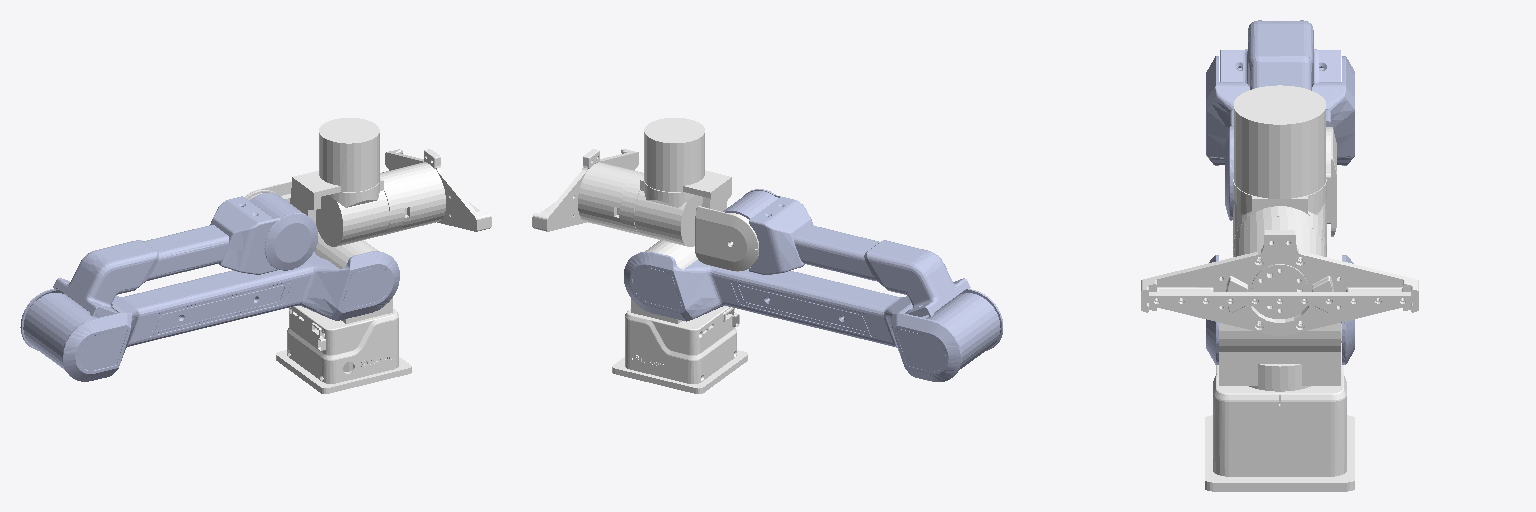
robot.urdf — S1_urdf:
<?xml version="1.0" encoding="utf-8"?>
<!-- This URDF was automatically created by SolidWorks to URDF Exporter! Originally created by Stephen Brawner (brawner@gmail.com) 
     Commit Version: 1.6.0-4-g7f85cfe  Build Version: 1.6.7995.38578
     For more information, please see http://wiki.ros.org/sw_urdf_exporter -->
<robot
  name="S1_urdf">
  <link
    name="base_link">
    <inertial>
      <origin
        xyz="-0.00380858444094159 -2.95623718748507E-06 -0.00812774108594989"
        rpy="0 0 0" />
      <mass
        value="0.20806063959613" />
      <inertia
        ixx="0.000111582714512014"
        ixy="-2.09920975933723E-08"
        ixz="-1.21102241506082E-07"
        iyy="0.000111825104100504"
        iyz="7.58291968234202E-09"
        izz="0.000141736244263584" />
    </inertial>
    <visual>
      <origin
        xyz="0 0 0"
        rpy="0 0 0" />
      <geometry>
        <mesh
          filename="package://S1_urdf/meshes/base_link.STL" />
      </geometry>
      <material
        name="">
        <color
          rgba="1 1 1 1" />
      </material>
    </visual>
    <collision>
      <origin
        xyz="0 0 0"
        rpy="0 0 0" />
      <geometry>
        <mesh
          filename="package://S1_urdf/meshes/base_link.STL" />
      </geometry>
    </collision>
  </link>
  <link
    name="1_Link">
    <inertial>
      <origin
        xyz="-7.80625564189563E-18 -5.00000000002408E-06 0.0590653989286232"
        rpy="0 0 0" />
      <mass
        value="0.240435362198768" />
      <inertia
        ixx="0.00018630832355269"
        ixy="1.64953324173944E-20"
        ixz="-3.36777610311687E-21"
        iyy="0.000128091509815163"
        iyz="1.45060421196015E-21"
        izz="0.000164031471753809" />
    </inertial>
    <visual>
      <origin
        xyz="0 0 0"
        rpy="0 0 0" />
      <geometry>
        <mesh
          filename="package://S1_urdf/meshes/1_Link.STL" />
      </geometry>
      <material
        name="">
        <color
          rgba="1 1 1 1" />
      </material>
    </visual>
    <collision>
      <origin
        xyz="0 0 0"
        rpy="0 0 0" />
      <geometry>
        <mesh
          filename="package://S1_urdf/meshes/1_Link.STL" />
      </geometry>
    </collision>
  </link>
  <joint
    name="1joint"
    type="revolute">
    <origin
      xyz="0 0 0"
      rpy="0 0 0" />
    <parent
      link="base_link" />
    <child
      link="1_Link" />
    <axis
      xyz="0 0 1" />
    <limit
      lower="-2.967"
      upper="2.967"
      effort="9"
      velocity="3" />
  </joint>
  <link
    name="2_Link">
    <inertial>
      <origin
        xyz="-0.251879222304569 0.000517956528807904 -7.29157146039383E-05"
        rpy="0 0 0" />
      <mass
        value="0.278959835711776" />
      <inertia
        ixx="0.000163800465912938"
        ixy="2.62737202022501E-07"
        ixz="1.39606807736436E-05"
        iyy="0.000968577582996889"
        iyz="7.55245046340043E-08"
        izz="0.00100988914340768" />
    </inertial>
    <visual>
      <origin
        xyz="0 0 0"
        rpy="0 0 0" />
      <geometry>
        <mesh
          filename="package://S1_urdf/meshes/2_Link.STL" />
      </geometry>
      <material
        name="">
        <color
          rgba="0.792156862745098 0.819607843137255 0.933333333333333 1" />
      </material>
    </visual>
    <collision>
      <origin
        xyz="0 0 0"
        rpy="0 0 0" />
      <geometry>
        <mesh
          filename="package://S1_urdf/meshes/2_Link.STL" />
      </geometry>
    </collision>
  </link>
  <joint
    name="2joint"
    type="revolute">
    <origin
      xyz="0 0 0.06525"
      rpy="0 0 0" />
    <parent
      link="1_Link" />
    <child
      link="2_Link" />
    <axis
      xyz="0 1 0" />
    <limit
      lower="0"
      upper="3.14"
      effort="9"
      velocity="3" />
  </joint>
  <link
    name="3_Link">
    <inertial>
      <origin
        xyz="0.19037840176035 -0.00362158780107993 0.0563752101995602"
        rpy="0 0 0" />
      <mass
        value="0.196496171403485" />
      <inertia
        ixx="7.62290489044243E-05"
        ixy="1.27450659123862E-05"
        ixz="-1.40318828274595E-05"
        iyy="0.000364814635826903"
        iyz="3.20235247907783E-07"
        izz="0.000356529119624131" />
    </inertial>
    <visual>
      <origin
        xyz="0 0 0"
        rpy="0 0 0" />
      <geometry>
        <mesh
          filename="package://S1_urdf/meshes/3_Link.STL" />
      </geometry>
      <material
        name="">
        <color
          rgba="0.796078431372549 0.823529411764706 0.937254901960784 1" />
      </material>
    </visual>
    <collision>
      <origin
        xyz="0 0 0"
        rpy="0 0 0" />
      <geometry>
        <mesh
          filename="package://S1_urdf/meshes/3_Link.STL" />
      </geometry>
    </collision>
  </link>
  <joint
    name="3joint"
    type="revolute">
    <origin
      xyz="-0.3 0.000494999999999956 0"
      rpy="0 0 0" />
    <parent
      link="2_Link" />
    <child
      link="3_Link" />
    <axis
      xyz="0 -1 0" />
    <limit
      lower="0"
      upper="3.4"
      effort="9"
      velocity="3" />
  </joint>
  <link
    name="4_Link">
    <inertial>
      <origin
        xyz="0.0683945378314372 0.00252083182130338 0.0485251695946249"
        rpy="0 0 0" />
      <mass
        value="0.160912102201024" />
      <inertia
        ixx="0.000134927190897753"
        ixy="2.36812899894328E-05"
        ixz="-7.64926182833173E-05"
        iyy="0.000219616653698238"
        iyz="1.95242373799905E-05"
        izz="0.000157365120045885" />
    </inertial>
    <visual>
      <origin
        xyz="0 0 0"
        rpy="0 0 0" />
      <geometry>
        <mesh
          filename="package://S1_urdf/meshes/4_Link.STL" />
      </geometry>
      <material
        name="">
        <color
          rgba="1 1 1 1" />
      </material>
    </visual>
    <collision>
      <origin
        xyz="0 0 0"
        rpy="0 0 0" />
      <geometry>
        <mesh
          filename="package://S1_urdf/meshes/4_Link.STL" />
      </geometry>
    </collision>
  </link>
  <joint
    name="4joint"
    type="revolute">
    <origin
      xyz="0.22 -0.000494999999999959 0.057"
      rpy="0 0 0" />
    <parent
      link="3_Link" />
    <child
      link="4_Link" />
    <axis
      xyz="0 1 0" />
    <limit
      lower="-1.57"
      upper="1.518"
      effort="3"
      velocity="3" />
  </joint>
  <link
    name="5_Link">
    <inertial>
      <origin
        xyz="0.000956923597758259 -9.47220826080786E-11 -0.0552062581443398"
        rpy="0 0 0" />
      <mass
        value="0.148471219823558" />
      <inertia
        ixx="7.22679916508393E-05"
        ixy="1.54971779141034E-11"
        ixz="9.23231896036375E-07"
        iyy="7.08257113400729E-05"
        iyz="-9.66138853764062E-13"
        izz="6.22190701090223E-05" />
    </inertial>
    <visual>
      <origin
        xyz="0 0 0"
        rpy="0 0 0" />
      <geometry>
        <mesh
          filename="package://S1_urdf/meshes/5_Link.STL" />
      </geometry>
      <material
        name="">
        <color
          rgba="1 1 1 1" />
      </material>
    </visual>
    <collision>
      <origin
        xyz="0 0 0"
        rpy="0 0 0" />
      <geometry>
        <mesh
          filename="package://S1_urdf/meshes/5_Link.STL" />
      </geometry>
    </collision>
  </link>
  <joint
    name="5joint"
    type="revolute">
    <origin
      xyz="0.0807873370477526 0 0.0591736792802548"
      rpy="0 0 0" />
    <parent
      link="4_Link" />
    <child
      link="5_Link" />
    <axis
      xyz="0 0 -1" />
    <limit
      lower="-1.57"
      upper="1.57"
      effort="3"
      velocity="3" />
  </joint>
  <link
    name="6_Link">
    <inertial>
      <origin
        xyz="0.0626158316452318 3.32171805929316E-08 0.000434560337518708"
        rpy="0 0 0" />
      <mass
        value="0.191165521062463" />
      <inertia
        ixx="0.000155311638007212"
        ixy="-2.14307445217236E-11"
        ixz="1.09404285286489E-07"
        iyy="5.70485879493432E-05"
        iyz="5.2606926872787E-12"
        izz="0.000139085602087797" />
    </inertial>
    <visual>
      <origin
        xyz="0 0 0"
        rpy="0 0 0" />
      <geometry>
        <mesh
          filename="package://S1_urdf/meshes/6_Link.STL" />
      </geometry>
      <material
        name="">
        <color
          rgba="1 1 1 1" />
      </material>
    </visual>
    <collision>
      <origin
        xyz="0 0 0"
        rpy="0 0 0" />
      <geometry>
        <mesh
          filename="package://S1_urdf/meshes/6_Link.STL" />
      </geometry>
    </collision>
  </link>
  <joint
    name="6joint"
    type="revolute">
    <origin
      xyz="0.0012127 0 -0.059174"
      rpy="0 0 0" />
    <parent
      link="5_Link" />
    <child
      link="6_Link" />
    <axis
      xyz="1 0 0" />
    <limit
      lower="-1.57"
      upper="1.57"
      effort="3"
      velocity="3" />
  </joint>
  <link
    name="7_1_Link">
    <inertial>
      <origin
        xyz="0 -0.016 0.016"
        rpy="0 0 0" />
      <mass
        value="0.0163456010029726" />
      <inertia
        ixx="1.09204000e-06" 
        ixy="0.00000000e+00" 
        ixz="0.00000000e+00"
        iyy="1.09204000e-06" 
        iyz="0.00000000e+00" 
        izz="1.09204000e-06" />
    </inertial>
    <visual>
      <origin
        xyz="0 0 0"
        rpy="0 0 0" />
      <geometry>
        <mesh
          filename="package://S1_urdf/meshes/7_1_Link.STL" />
      </geometry>
      <material
        name="">
        <color
          rgba="0.898039215686275 0.917647058823529 0.929411764705882 1" />
      </material>
    </visual>
    <collision>
      <origin
        xyz="0 0 0"
        rpy="0 0 0" />
      <geometry>
        <mesh
          filename="package://S1_urdf/meshes/7_1_Link.STL" />
      </geometry>
    </collision>
  </link>
  <link
    name="7_2_Link">
    <inertial>
      <origin
        xyz="0 0.016 0.016"
        rpy="0 0 0" />
      <mass
        value="0.0163456010029726" />
      <inertia
        ixx="1.09204000e-06" 
        ixy="0.00000000e+00" 
        ixz="0.00000000e+00"
        iyy="1.09204000e-06" 
        iyz="0.00000000e+00" 
        izz="1.09204000e-06" />
    </inertial>
    <visual>
      <origin
        xyz="0 0 0"
        rpy="0 0 0" />
      <geometry>
        <mesh
          filename="package://S1_urdf/meshes/7_2_Link.STL" />
      </geometry>
      <material
        name="">
        <color
          rgba="0.898039215686275 0.917647058823529 0.929411764705882 1" />
      </material>
    </visual>
    <collision>
      <origin
        xyz="0 0 0"
        rpy="0 0 0" />
      <geometry>
        <mesh
          filename="package://S1_urdf/meshes/7_2_Link.STL" />
      </geometry>
    </collision>
  </link>

  <joint
    name="7joint"
    type="prismatic">
    <origin
      xyz="0.1 0.014 0.016"
      rpy="1.57 0 1.57" />
    <parent
      link="6_Link" />
    <child
      link="7_1_Link" />
    <axis
      xyz="1 0 0" />
    <limit
      lower="0"
      upper="0.05"
      effort="3"
      velocity="3" />
  </joint>
    <joint
    name="8joint"
    type="prismatic">
    <origin
      xyz="0.1 -0.014 -0.016"
      rpy="1.57 0 1.57" />
    <parent
      link="6_Link" />
    <child
      link="7_2_Link" />
    <axis
      xyz="-1 0 0" />
    <limit
      lower="0"
      upper="0.05"
      effort="3"
      velocity="3" />
  </joint>
</robot>

--- Render facts (derived) ---
The picture shows the robot from 3 angles, left to right: view 1: azimuth 30°, elevation 25°; view 2: azimuth 150°, elevation 25°; view 3: azimuth 270°, elevation 25°; orthographic projection.
Model S1_urdf with 9 links and 8 joints (6 revolute, 2 prismatic), rooted at base_link, posed all joints at 0.
Visible links, largest first — view 1: 2_Link, 3_Link, base_link, 4_Link, 6_Link, 5_Link, 1_Link; view 2: 2_Link, 3_Link, 4_Link, base_link, 6_Link, 5_Link, 1_Link; view 3: 6_Link, base_link, 4_Link, 3_Link, 1_Link, 2_Link, 5_Link.
Boxes of the visible links, x1=… form: 2_Link: x1=20, y1=251, x2=399, y2=381; 3_Link: x1=53, y1=193, x2=317, y2=316; base_link: x1=276, y1=306, x2=411, y2=393; 4_Link: x1=245, y1=118, x2=379, y2=223; 6_Link: x1=380, y1=149, x2=491, y2=235; 5_Link: x1=316, y1=178, x2=389, y2=246; 1_Link: x1=314, y1=232, x2=392, y2=323; 2_Link: x1=624, y1=251, x2=1002, y2=381; 3_Link: x1=723, y1=189, x2=970, y2=316; 4_Link: x1=644, y1=118, x2=758, y2=271; base_link: x1=612, y1=306, x2=747, y2=393; 6_Link: x1=532, y1=149, x2=643, y2=234; 5_Link: x1=634, y1=178, x2=702, y2=246; 1_Link: x1=631, y1=240, x2=697, y2=323; 6_Link: x1=1141, y1=206, x2=1418, y2=335; base_link: x1=1205, y1=343, x2=1354, y2=491; 4_Link: x1=1234, y1=85, x2=1336, y2=236; 3_Link: x1=1220, y1=20, x2=1340, y2=220; 1_Link: x1=1219, y1=277, x2=1340, y2=388; 2_Link: x1=1206, y1=56, x2=1354, y2=364; 5_Link: x1=1233, y1=179, x2=1326, y2=244.
Bounding box of the posed robot: 0.4337 × 0.17 × 0.24 m (x, y, z).
7 mesh visuals loaded from 9 distinct referenced files (7 binary STL); not drawn: 2 (reference not matched to a file when rendering).
